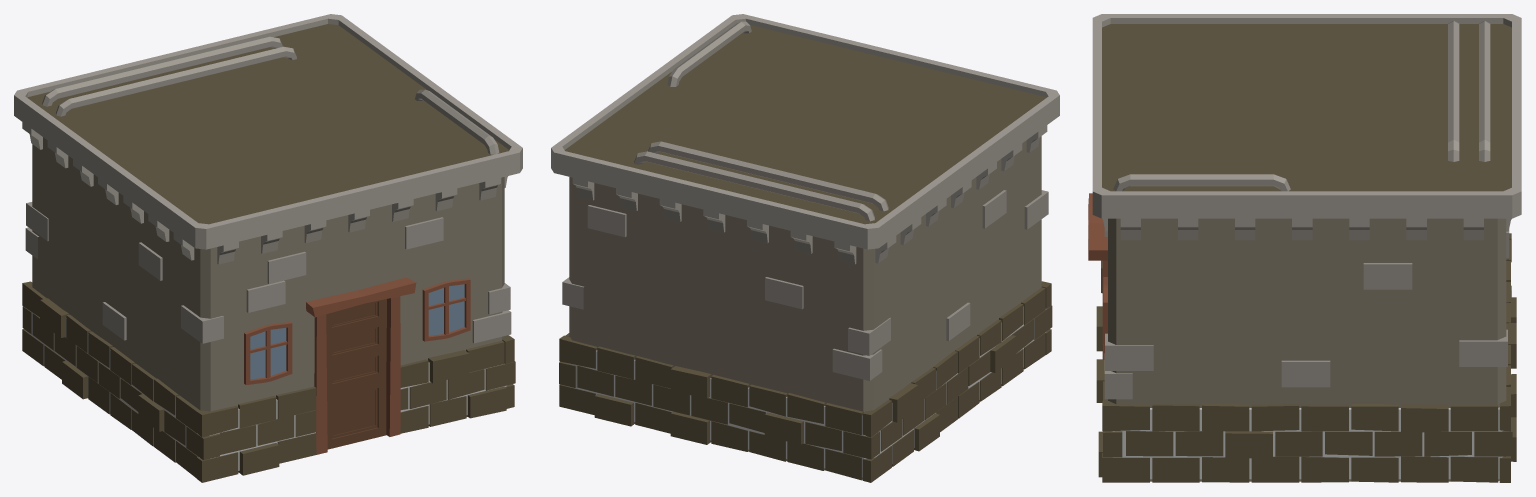
The model's file is one-story.glb.
The picture shows the model from 3 angles, left to right: view 1: azimuth 30°, elevation 25°; view 2: azimuth 150°, elevation 25°; view 3: azimuth 270°, elevation 25°; orthographic projection. The views are drawn at different scales.
Parts seen in each view (by area): view 1: 1Story_Cube.093; view 2: 1Story_Cube.093; view 3: 1Story_Cube.093.
Part boxes in pixels (<box>): 1Story_Cube.093: <box>14,14,522,482</box>; 1Story_Cube.093: <box>551,14,1059,482</box>; 1Story_Cube.093: <box>1088,14,1521,482</box>.
Bounding box in the file's own units: 2.15 × 1.67 × 2.17.
1 material, 1 textured.
